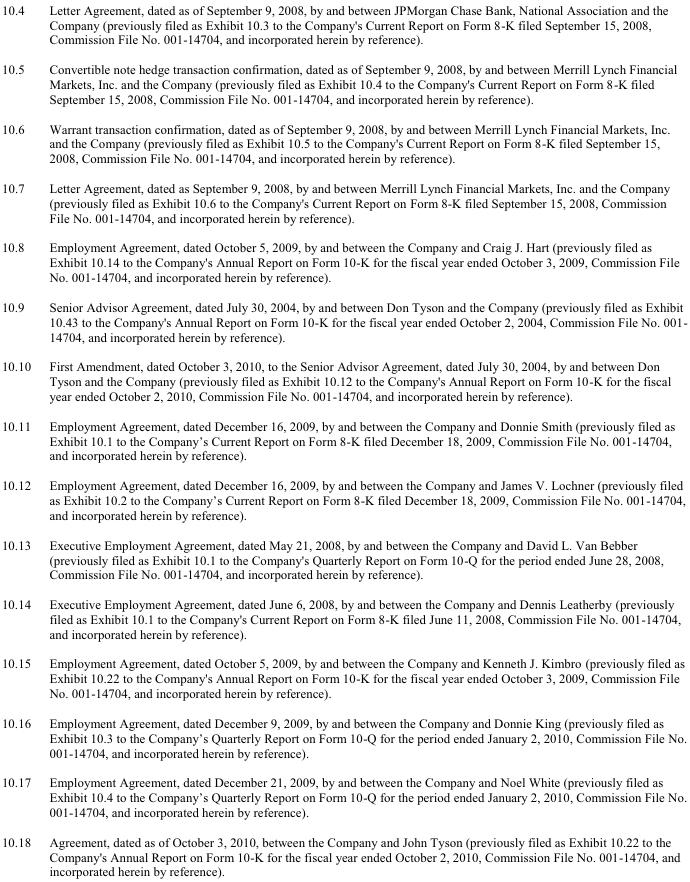table: (0, 0, 686, 879)
table column: (39, 0, 686, 879), (0, 0, 39, 879)
table row: (0, 53, 686, 113), (0, 172, 686, 232), (0, 350, 686, 410), (0, 469, 686, 529), (0, 588, 686, 648), (0, 766, 686, 826), (0, 113, 686, 172), (0, 232, 686, 291), (0, 291, 686, 350), (0, 410, 686, 469), (0, 529, 686, 588), (0, 648, 686, 707), (0, 707, 686, 766), (0, 0, 686, 53), (0, 826, 686, 879)
